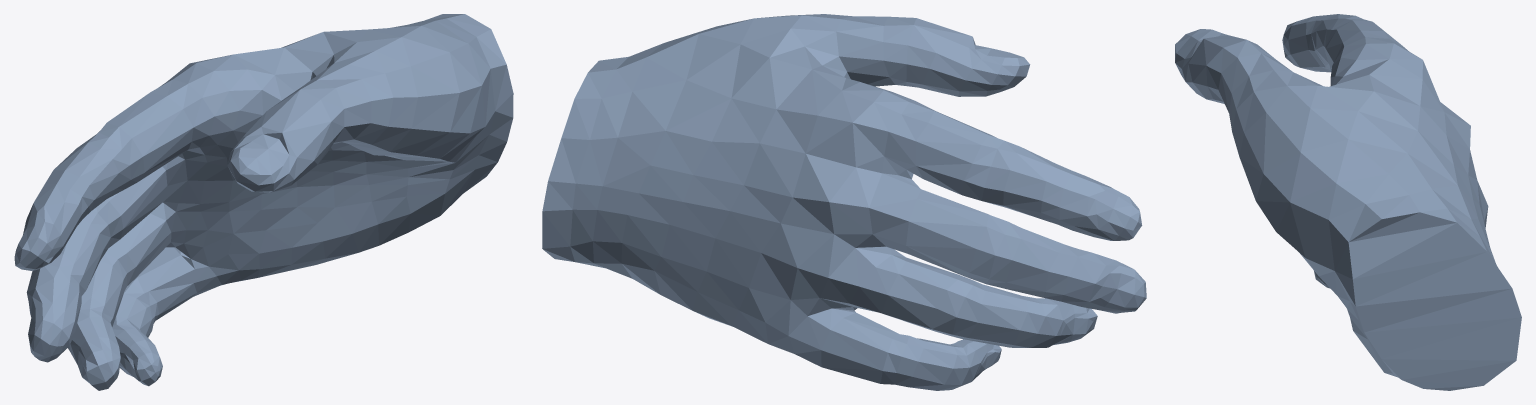
File: frame_00008_0.obj
The picture shows the model from 3 angles, left to right: view 1: azimuth 30°, elevation 25°; view 2: azimuth 150°, elevation 25°; view 3: azimuth 270°, elevation 25°; orthographic projection. The views are drawn at different scales.
Bounding box in the file's own units: 0.1753 × 0.0961 × 0.0989.
